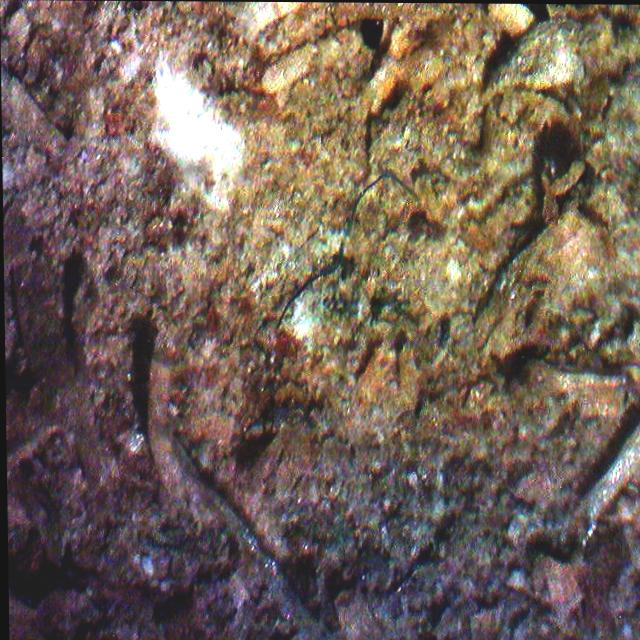microplastic: (275, 173, 417, 331)
